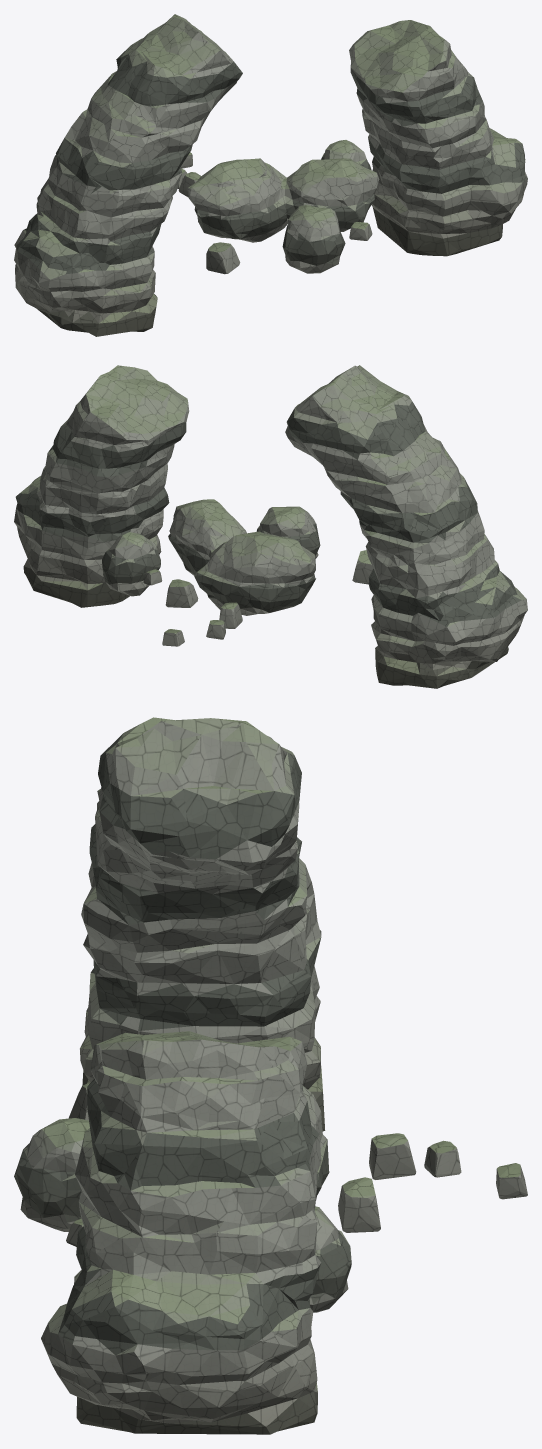
The model's file is rock_arch_collapsed.glb.
The picture shows the model from 3 angles, top to bottom: view 1: azimuth 30°, elevation 25°; view 2: azimuth 150°, elevation 25°; view 3: azimuth 270°, elevation 25°; orthographic projection. The views are drawn at different scales.
Parts seen in each view (by area): view 1: rock_arch_collapsed.001; view 2: rock_arch_collapsed.001; view 3: rock_arch_collapsed.001.
Part boxes in pixels (<box>): rock_arch_collapsed.001: <box>14,14,527,336</box>; rock_arch_collapsed.001: <box>14,365,527,688</box>; rock_arch_collapsed.001: <box>14,717,527,1434</box>.
Size of what is drawn, in the model's own units: 25.59 by 13.54 by 13.15.
2 materials, 2 textured.
